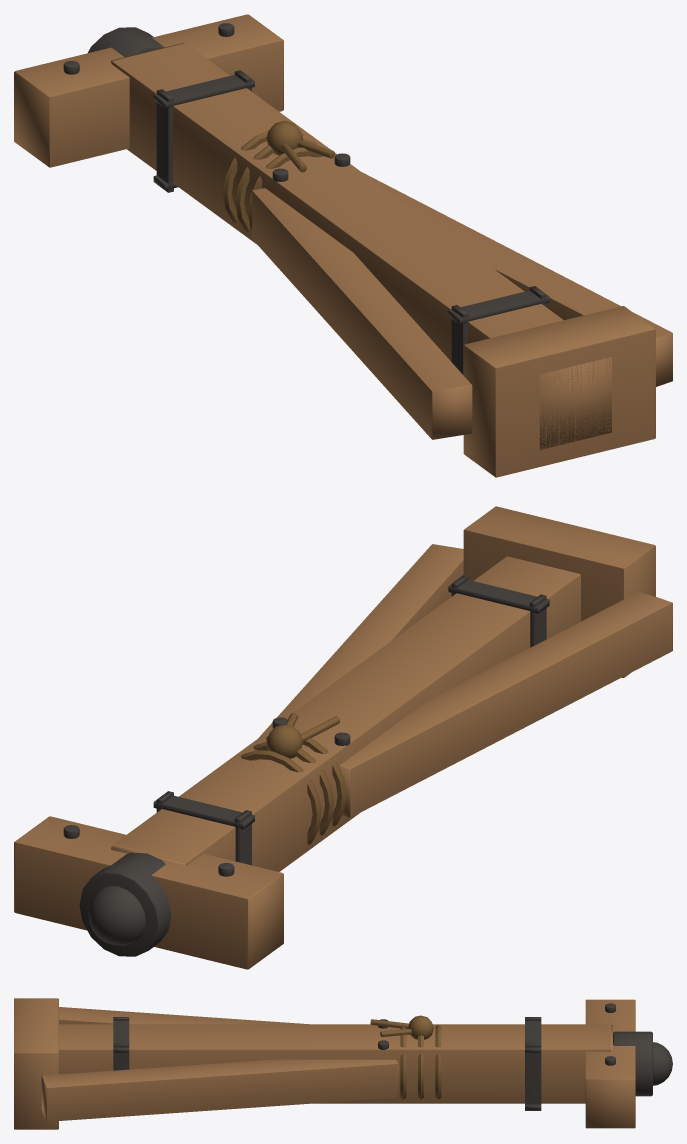
The model's file is DSZiplineWoodAnchor.fbx.
3 renders of one model, top to bottom at view 1: azimuth 30°, elevation 25°; view 2: azimuth 150°, elevation 25°; view 3: azimuth 270°, elevation 25°, orthographic. The views are drawn at different scales.
Visible parts, largest first — view 1: DSZiplineWoodAnchorModel; view 2: DSZiplineWoodAnchorModel; view 3: DSZiplineWoodAnchorModel.
Boxes of the visible parts, bbox=[...] form: DSZiplineWoodAnchorModel: bbox=[14, 14, 672, 477]; DSZiplineWoodAnchorModel: bbox=[14, 506, 672, 969]; DSZiplineWoodAnchorModel: bbox=[14, 998, 672, 1129].
Bounding box in the file's own units: 0.7772 × 0.38 × 2.64.
